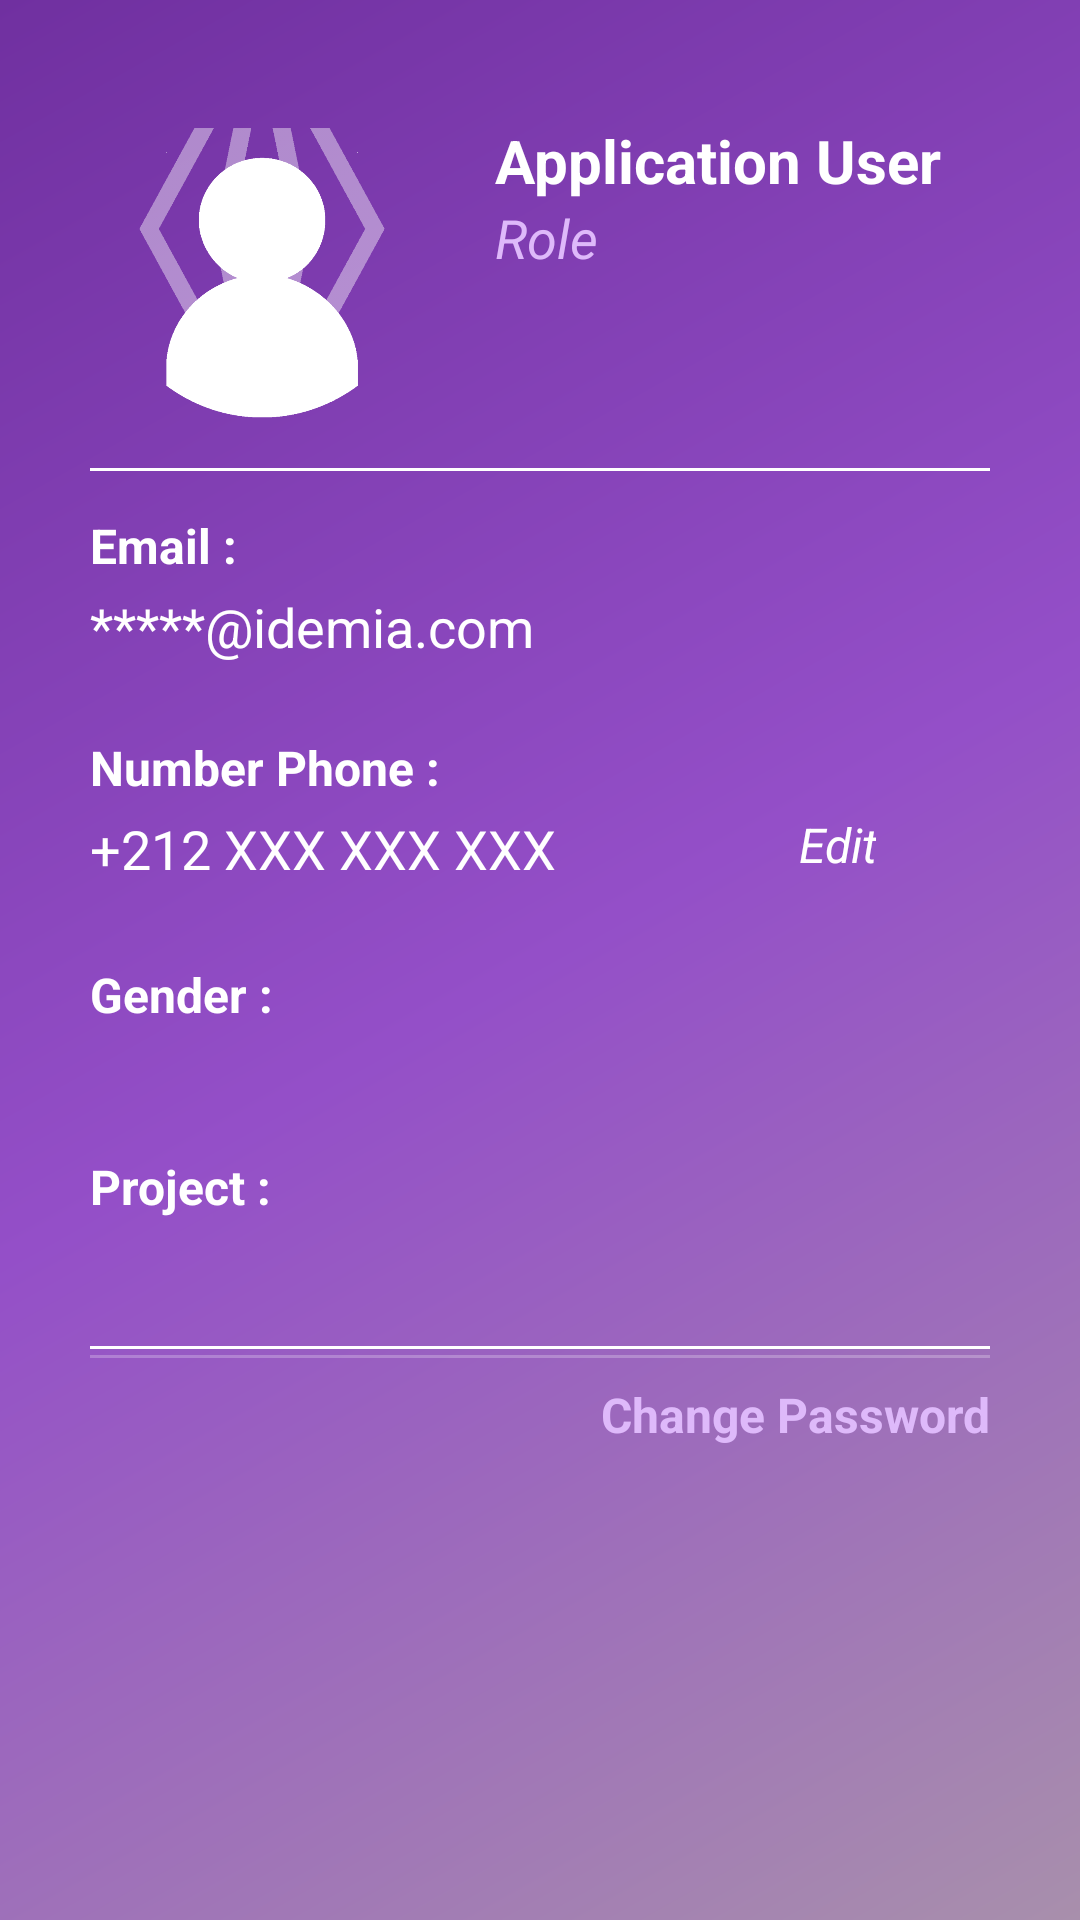

Locate icon controls on the screen. Image size 1080w x 1920h, boxes as (x1, y1, x2, y2).
person for login: (140, 128, 385, 418)
